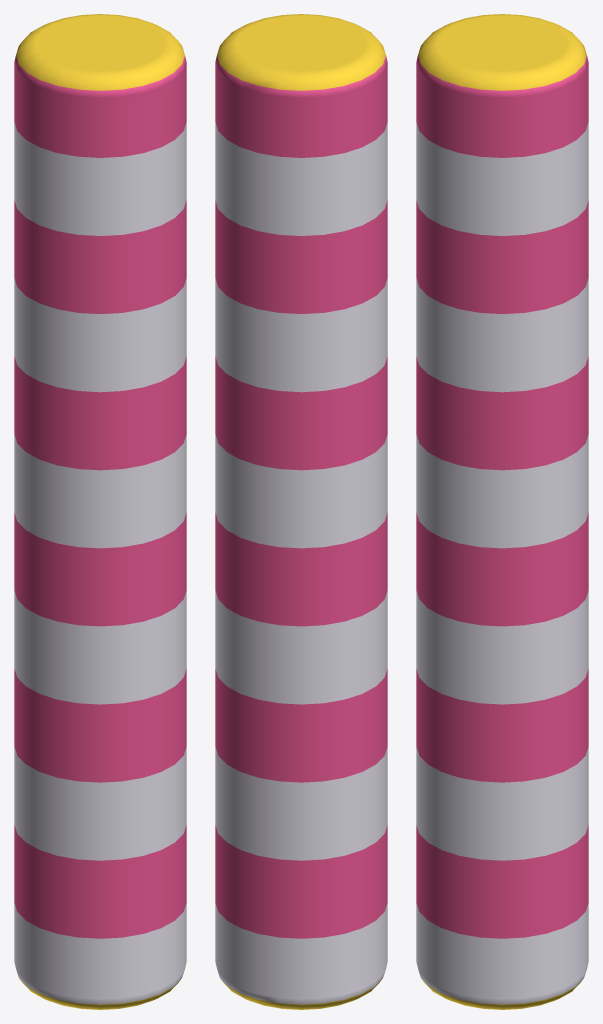
File: pillar_1x6.glb
3 views of the same model, side by side, from view 1: azimuth 30°, elevation 25°; view 2: azimuth 150°, elevation 25°; view 3: azimuth 270°, elevation 25° (orthographic).
Parts seen in each view (by area): view 1: pillar_1x6; view 2: pillar_1x6; view 3: pillar_1x6.
Boxes of the visible parts, x1=… form: pillar_1x6: x1=14, y1=14, x2=186, y2=1009; pillar_1x6: x1=215, y1=14, x2=387, y2=1009; pillar_1x6: x1=416, y1=14, x2=588, y2=1009.
Bounding box in the file's own units: 1 × 6 × 1.
Materials: 1 (1 with a texture image).
